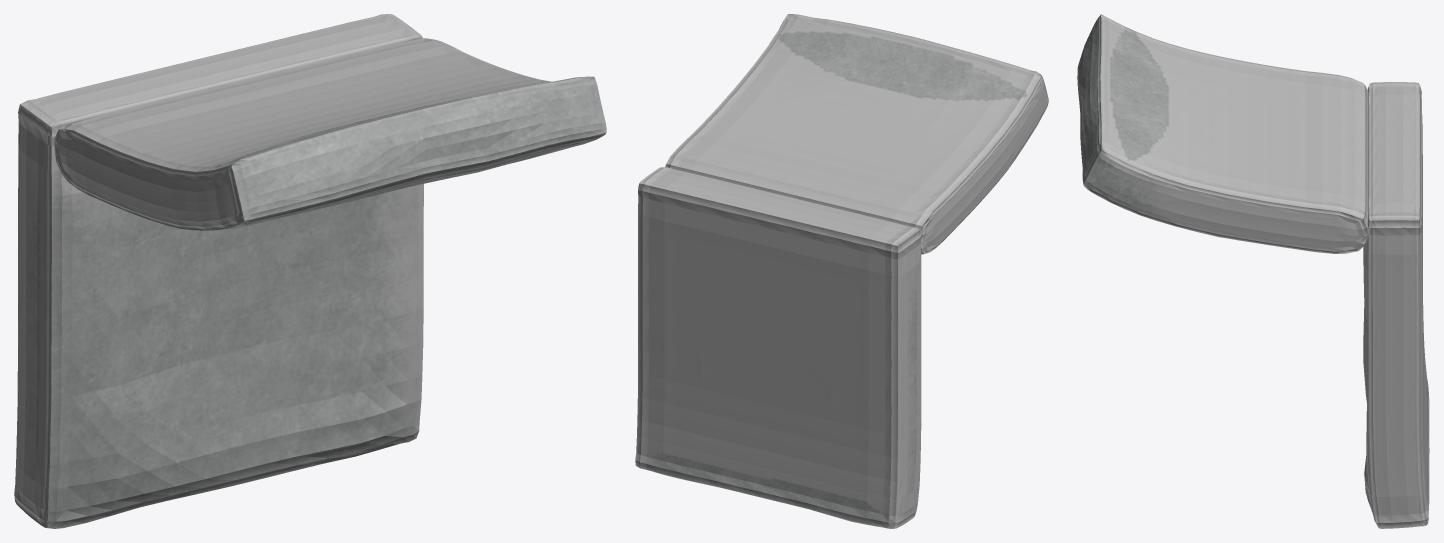
The model's file is Fp208_Armchair3Armchair_208_0_GeomSubset_2.obj.
The picture shows the model from 3 angles, left to right: view 1: azimuth 30°, elevation 25°; view 2: azimuth 150°, elevation 25°; view 3: azimuth 270°, elevation 25°; orthographic projection. The views are drawn at different scales.
Parts seen in each view (by area): view 1: Fp208_Armchair3Armchair_208_0_GeomSubset_2; view 2: Fp208_Armchair3Armchair_208_0_GeomSubset_2; view 3: Fp208_Armchair3Armchair_208_0_GeomSubset_2.
Boxes of the visible parts, bbox=[...] form: Fp208_Armchair3Armchair_208_0_GeomSubset_2: bbox=[14, 14, 606, 528]; Fp208_Armchair3Armchair_208_0_GeomSubset_2: bbox=[635, 14, 1048, 528]; Fp208_Armchair3Armchair_208_0_GeomSubset_2: bbox=[1077, 14, 1429, 528].
Size of the model in its own units: 0.6676 by 0.8635 by 0.7071.
